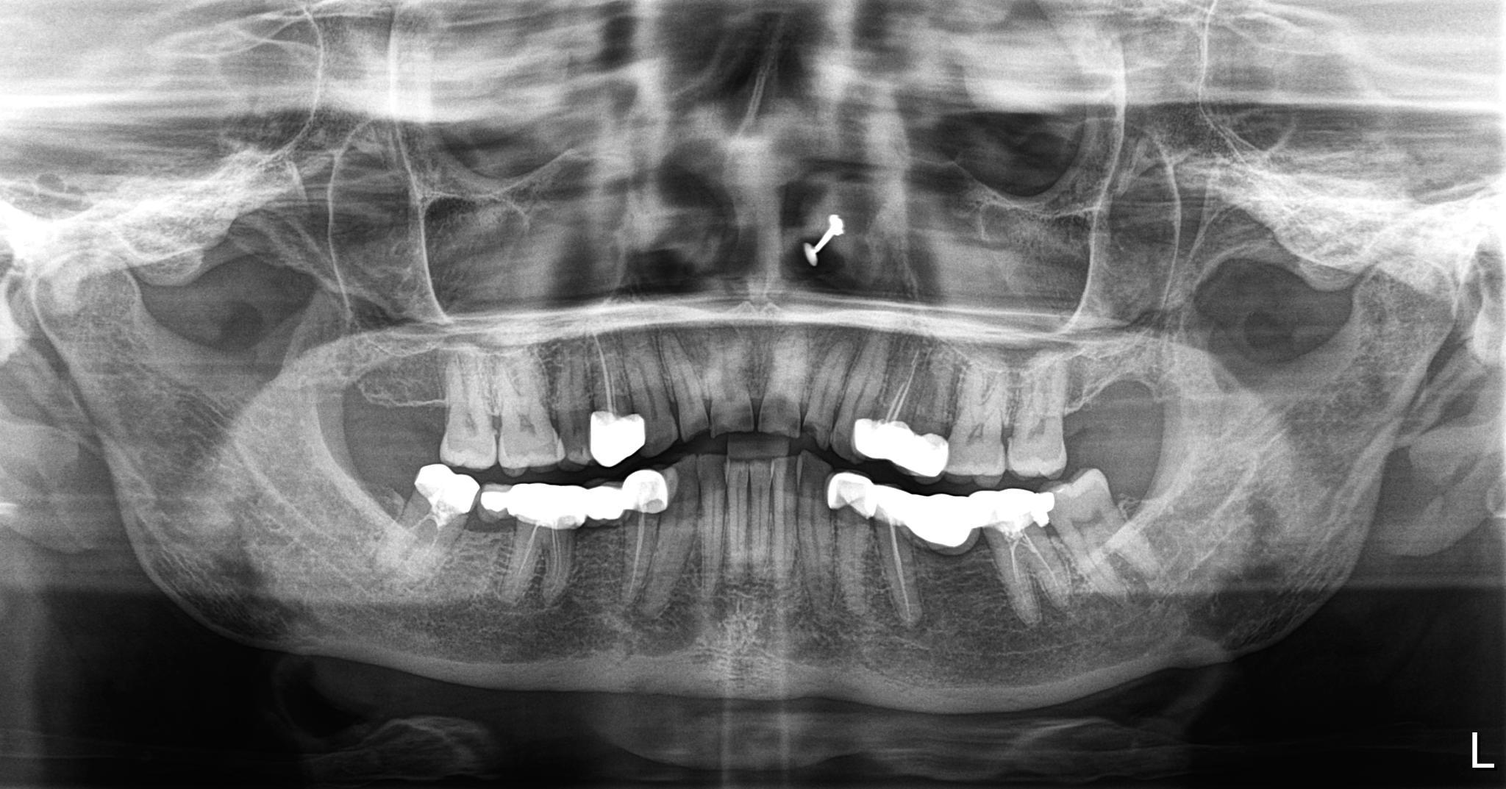Dental Caries: (961, 421, 988, 446), (996, 417, 1020, 445), (456, 415, 480, 442), (515, 415, 538, 440), (482, 415, 504, 437), (1031, 417, 1046, 445)
Endodontically Treated Tooth: (934, 506, 999, 637), (585, 346, 646, 464), (601, 489, 664, 599), (415, 460, 473, 576), (1007, 495, 1057, 626), (871, 500, 921, 630), (857, 340, 901, 478), (526, 491, 582, 598), (835, 483, 877, 620), (914, 347, 945, 481), (482, 489, 523, 589)
Impacted Third Molar: (1055, 489, 1161, 581)
Missing Tooth: (340, 355, 389, 455), (390, 357, 440, 453), (1121, 368, 1164, 468), (1077, 377, 1114, 461)
